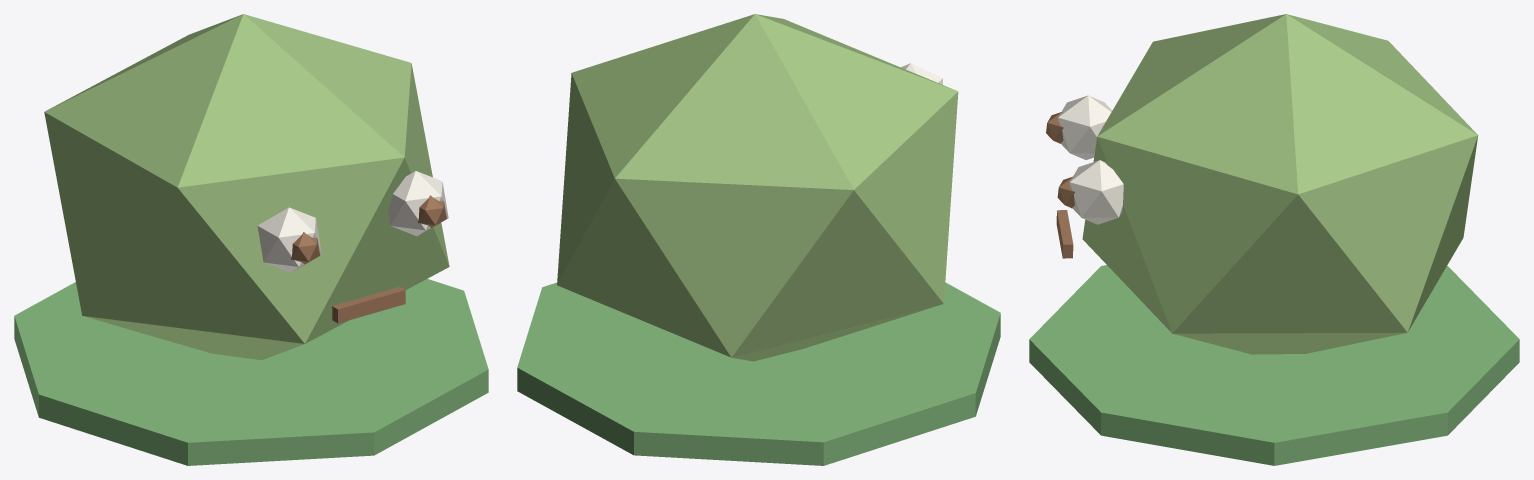
The model's file is npcpose_slime_idle_07.glb.
3 renders of one model, left to right at view 1: azimuth 30°, elevation 25°; view 2: azimuth 150°, elevation 25°; view 3: azimuth 270°, elevation 25°, orthographic. The views are drawn at different scales.
Parts seen in each view (by area): view 1: npcpose; view 2: npcpose; view 3: npcpose.
Boxes of the visible parts, box(x1,y1,x2,y2) form: npcpose: box(14, 14, 488, 465); npcpose: box(517, 14, 1000, 465); npcpose: box(1029, 14, 1519, 465).
Bounding box in the file's own units: 0.96 × 0.7505 × 0.96.
